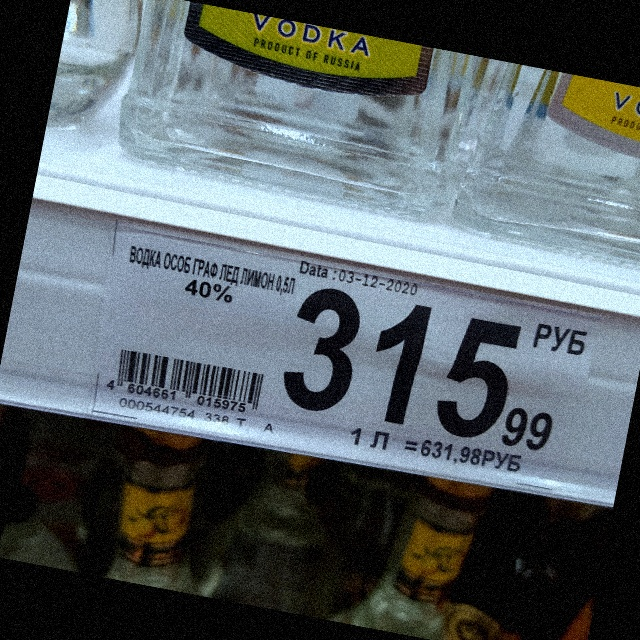barcode: (103, 348, 269, 414)
name: (124, 243, 302, 311)
price: (281, 284, 559, 466)
price_tag: (94, 219, 590, 497)
